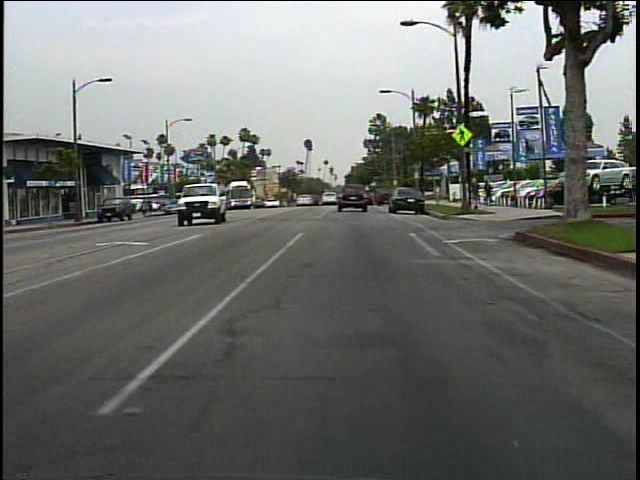person: (562, 174, 585, 225)
